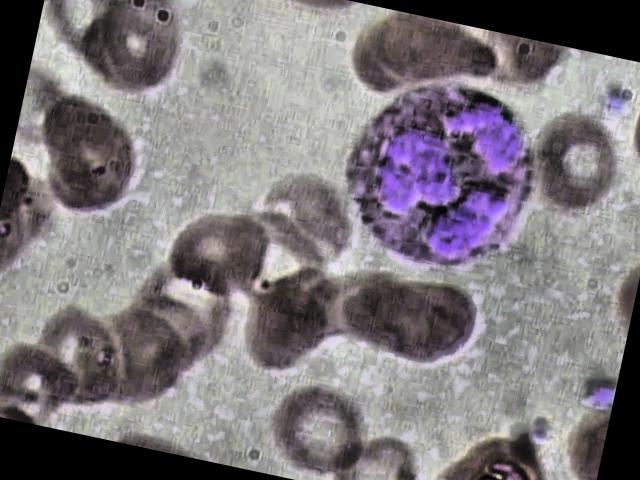Platelets: (596, 76, 638, 122), (578, 373, 618, 412)
RBC: (14, 81, 155, 227), (512, 106, 634, 228), (155, 196, 279, 312), (364, 263, 488, 379), (20, 295, 135, 416), (254, 373, 375, 480), (244, 169, 358, 281), (86, 0, 197, 108), (32, 0, 142, 76)
WBC: (321, 60, 557, 297)
